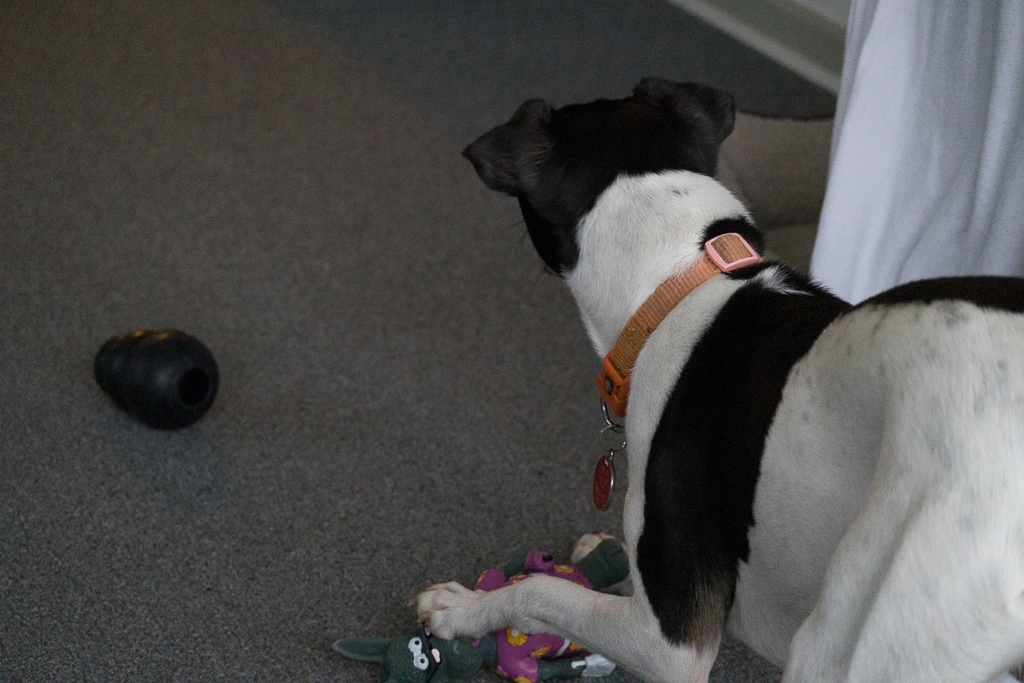Dog: (396, 67, 1024, 683)
Humanoid: (320, 534, 638, 683)
